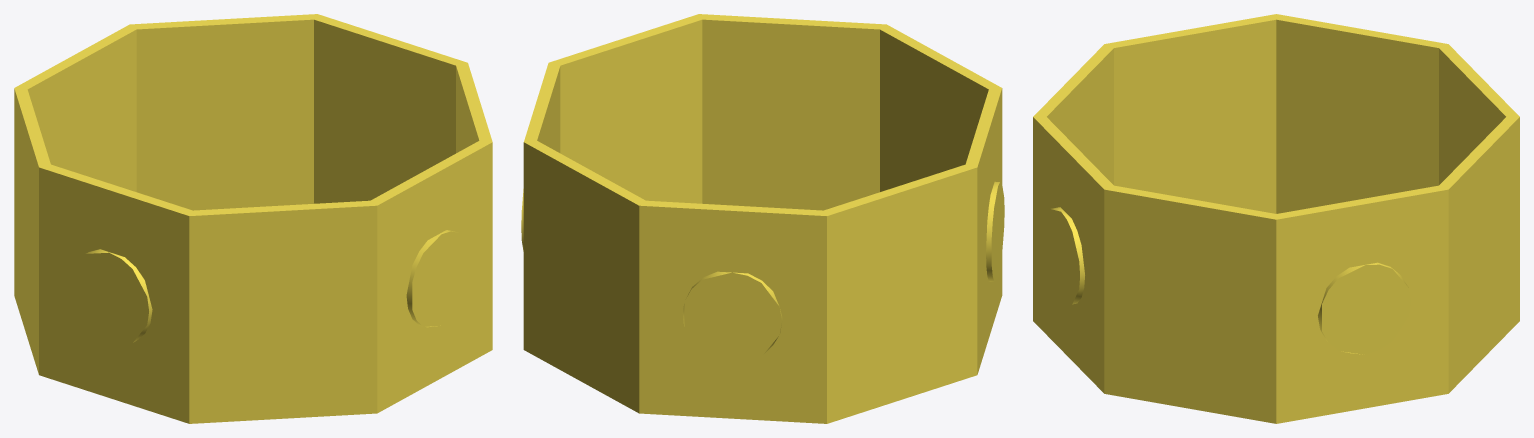
Rendered from ELE-CXA-003_lod1.glb.
The picture shows the model from 3 angles, left to right: view 1: azimuth 30°, elevation 25°; view 2: azimuth 150°, elevation 25°; view 3: azimuth 270°, elevation 25°; orthographic projection.
Parts seen in each view (by area): view 1: ELE-CXA-003_caixa, ELE-CXA-003_ko2, ELE-CXA-003_ko3; view 2: ELE-CXA-003_caixa, ELE-CXA-003_ko1, ELE-CXA-003_ko2; view 3: ELE-CXA-003_caixa, ELE-CXA-003_ko0, ELE-CXA-003_ko3.
Boxes of the visible parts, bbox=[...] form: ELE-CXA-003_caixa: bbox=[14, 14, 492, 423]; ELE-CXA-003_ko2: bbox=[71, 249, 152, 345]; ELE-CXA-003_ko3: bbox=[406, 230, 472, 327]; ELE-CXA-003_caixa: bbox=[523, 14, 1002, 423]; ELE-CXA-003_ko1: bbox=[682, 271, 782, 363]; ELE-CXA-003_ko2: bbox=[986, 181, 1004, 281]; ELE-CXA-003_caixa: bbox=[1033, 14, 1519, 423]; ELE-CXA-003_ko0: bbox=[1318, 262, 1411, 354]; ELE-CXA-003_ko3: bbox=[1043, 207, 1084, 305].
Bounding box in the file's own units: 0.108 × 0.05 × 0.108.
